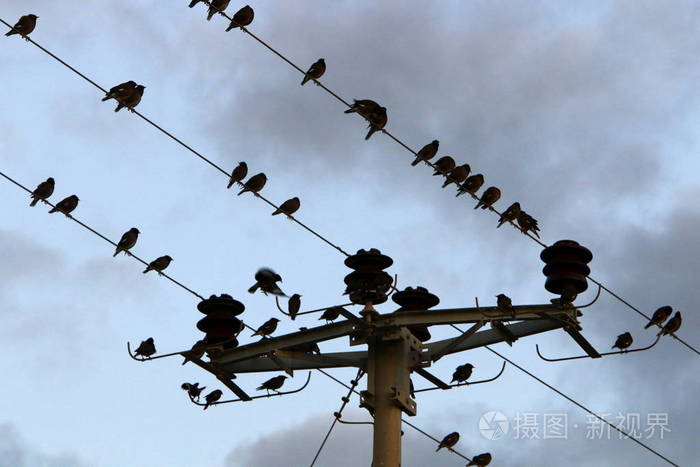insulator: (536, 242, 595, 295), (394, 284, 439, 338), (340, 250, 391, 296), (193, 295, 248, 337)
